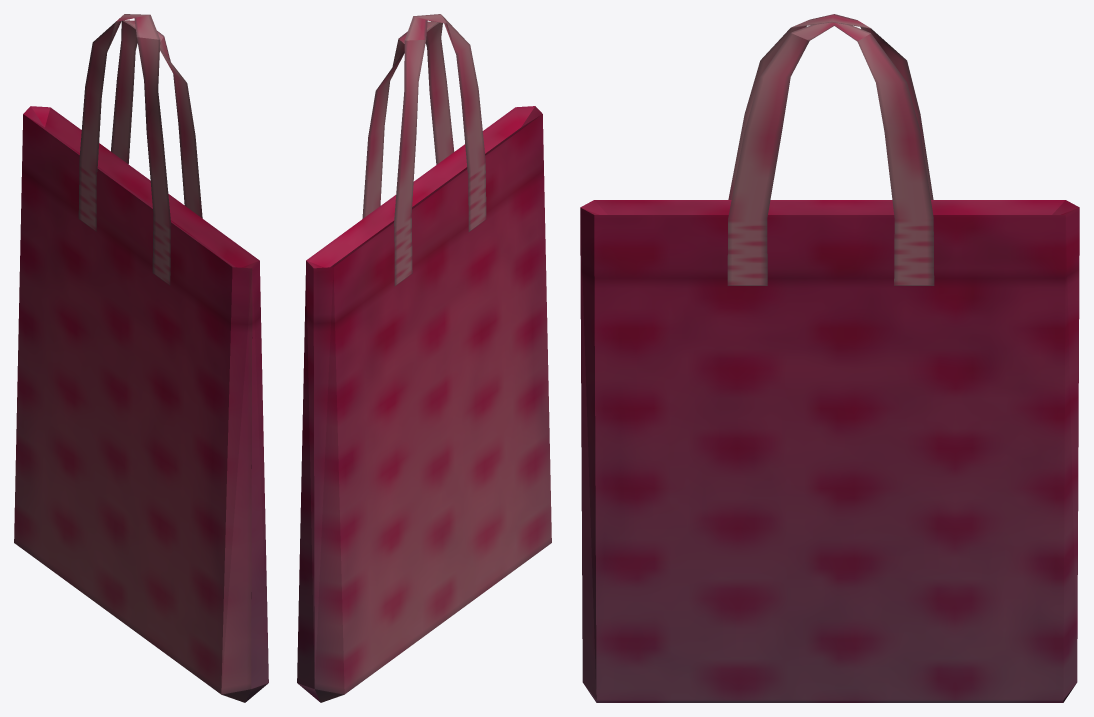
Rendered from bag_typeB2_nig.FBX.
3 views of the same model, side by side, from view 1: azimuth 30°, elevation 25°; view 2: azimuth 150°, elevation 25°; view 3: azimuth 270°, elevation 25° (orthographic). The views are drawn at different scales.
Visible parts, largest first — view 1: bag_typeB2_nig; view 2: bag_typeB2_nig; view 3: bag_typeB2_nig.
Part boxes in pixels (left/top/right/bottom): bag_typeB2_nig: left=14, top=14, right=268, bottom=702; bag_typeB2_nig: left=297, top=14, right=551, bottom=702; bag_typeB2_nig: left=580, top=14, right=1079, bottom=702.
Bounding box in the file's own units: 3.46 × 42.36 × 27.94.
